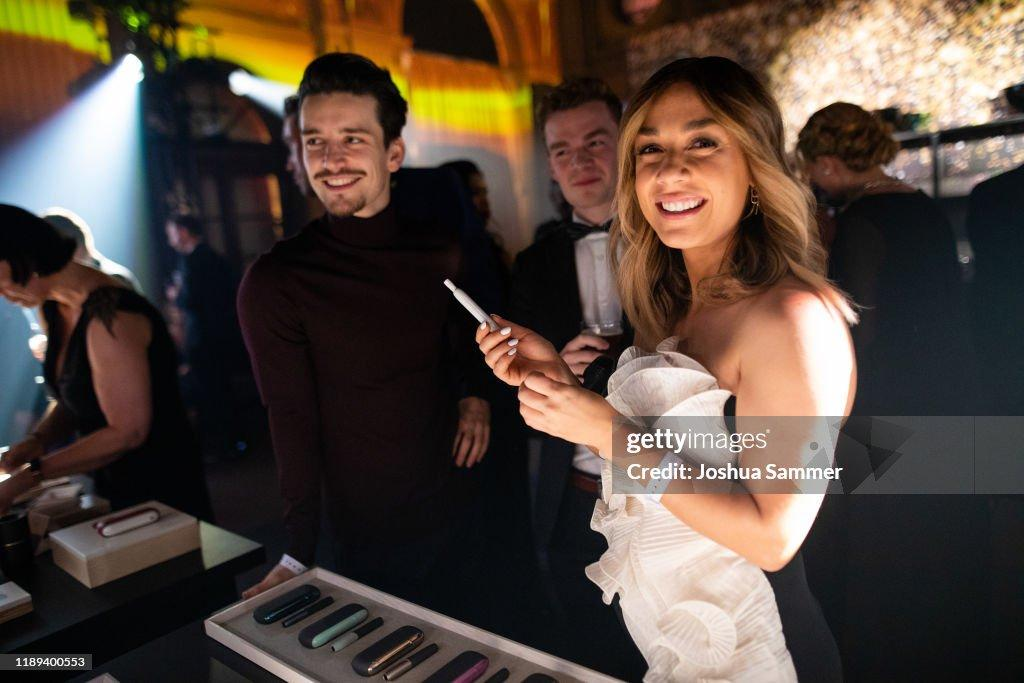iqos: (444, 279, 501, 332)
